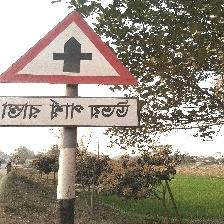Crossroad: (0, 11, 161, 141)
